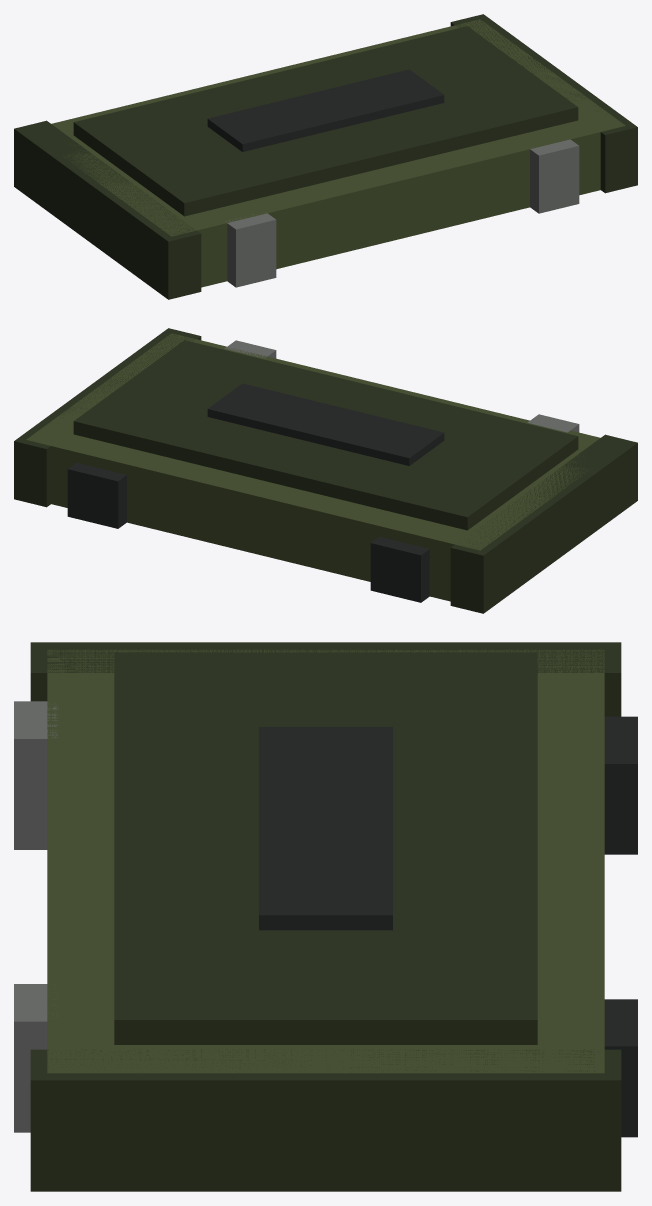
File: caixa_tampa.glb
The picture shows the model from 3 angles, top to bottom: view 1: azimuth 30°, elevation 25°; view 2: azimuth 150°, elevation 25°; view 3: azimuth 270°, elevation 25°; orthographic projection. The views are drawn at different scales.
Parts seen in each view (by area): view 1: caixa_tampa; view 2: caixa_tampa; view 3: caixa_tampa.
Part boxes in pixels (x1=…): caixa_tampa: x1=14, y1=14, x2=637, y2=299; caixa_tampa: x1=14, y1=328, x2=637, y2=613; caixa_tampa: x1=14, y1=642, x2=637, y2=1191.
Size of the model in its own units: 0.93 by 0.15 by 0.56.
